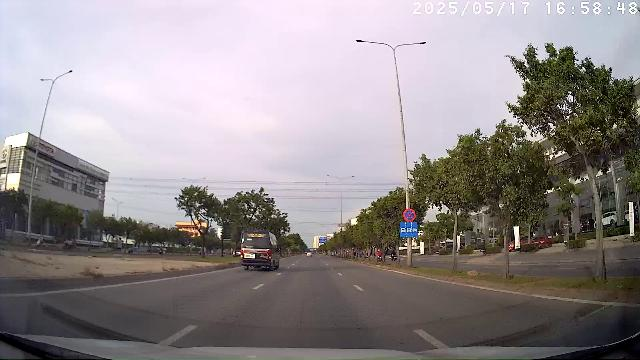130-cam-dung-va-do-xe: (403, 208, 415, 222)
